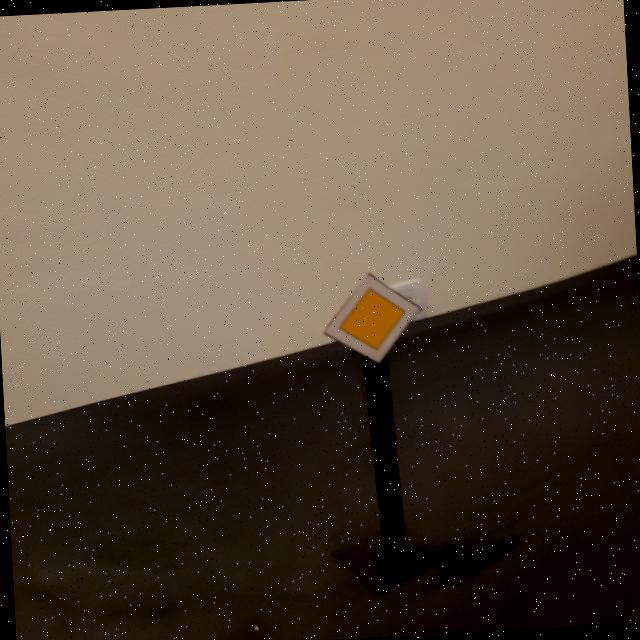priority: (319, 268, 426, 368)
